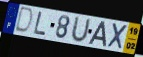8: (55, 15, 71, 40)
A: (88, 21, 107, 48)
D: (14, 6, 35, 35)
L: (32, 11, 47, 37)
U: (69, 15, 92, 44)
X: (106, 22, 129, 51)
